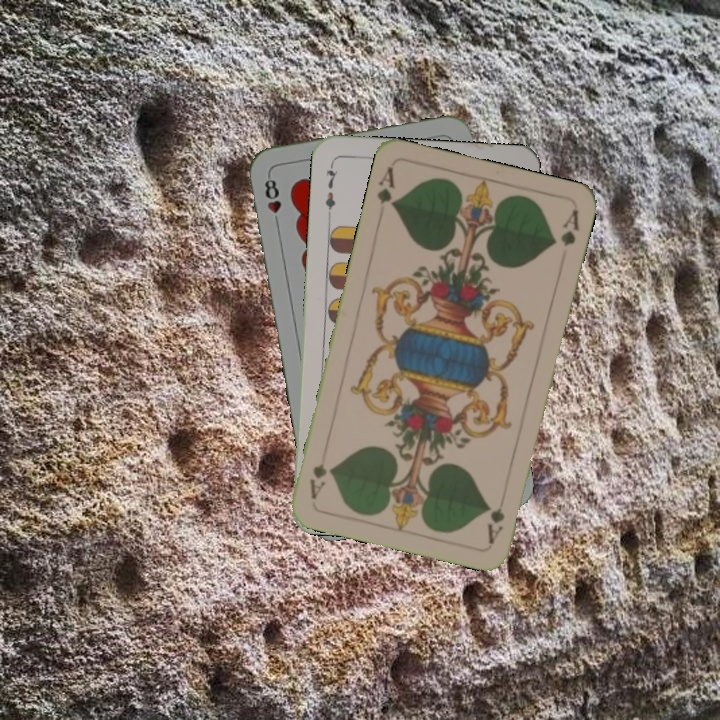E7: (321, 159, 341, 217)
GA: (373, 162, 399, 210), (483, 504, 508, 547)
H8: (260, 171, 284, 230)
